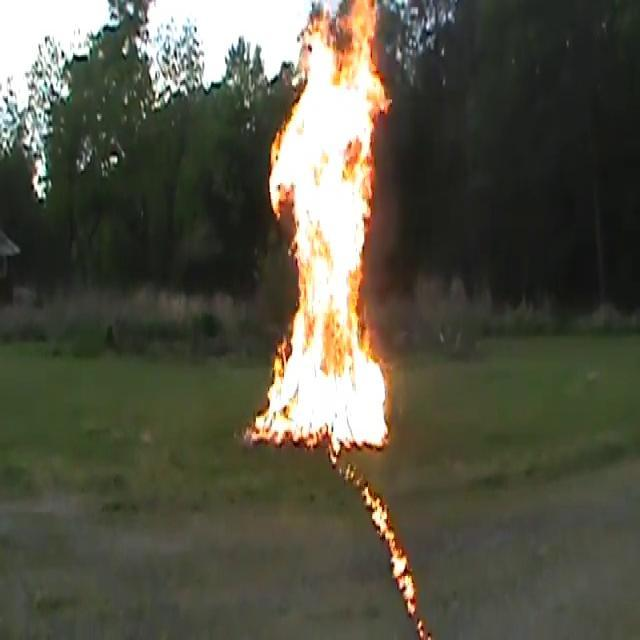Fire: (251, 3, 398, 449)
